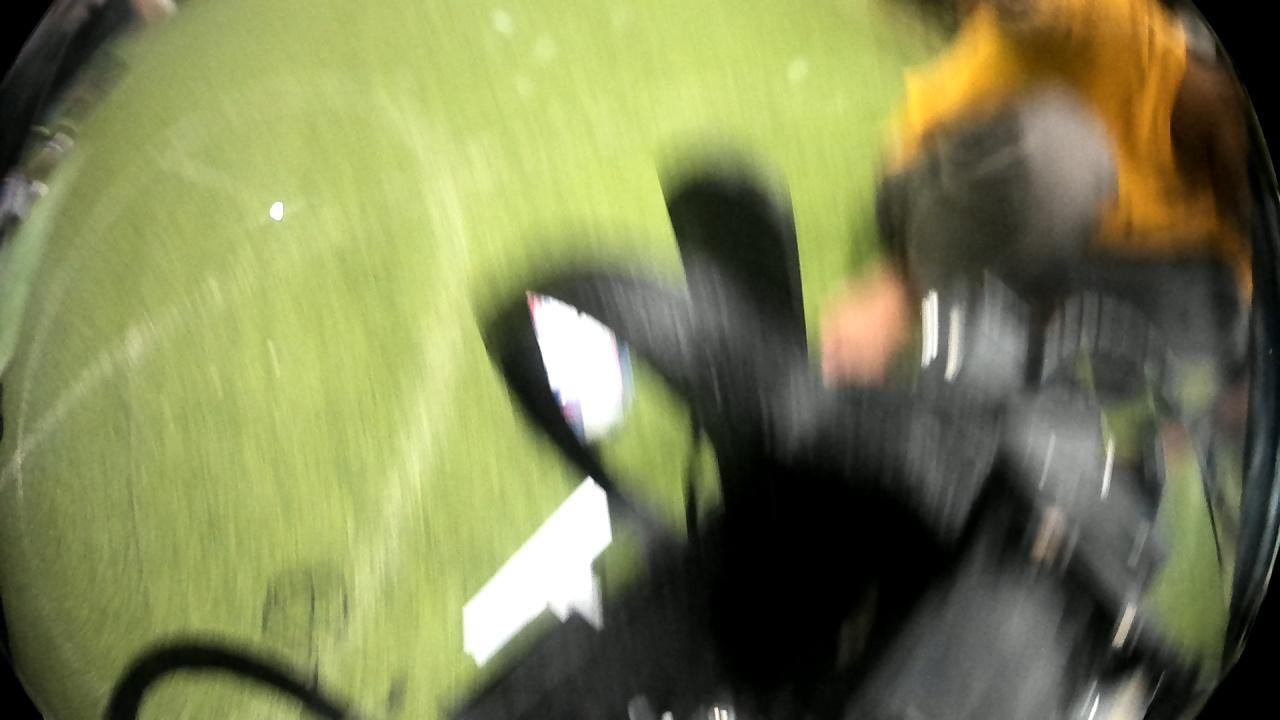ball: (507, 283, 629, 453)
